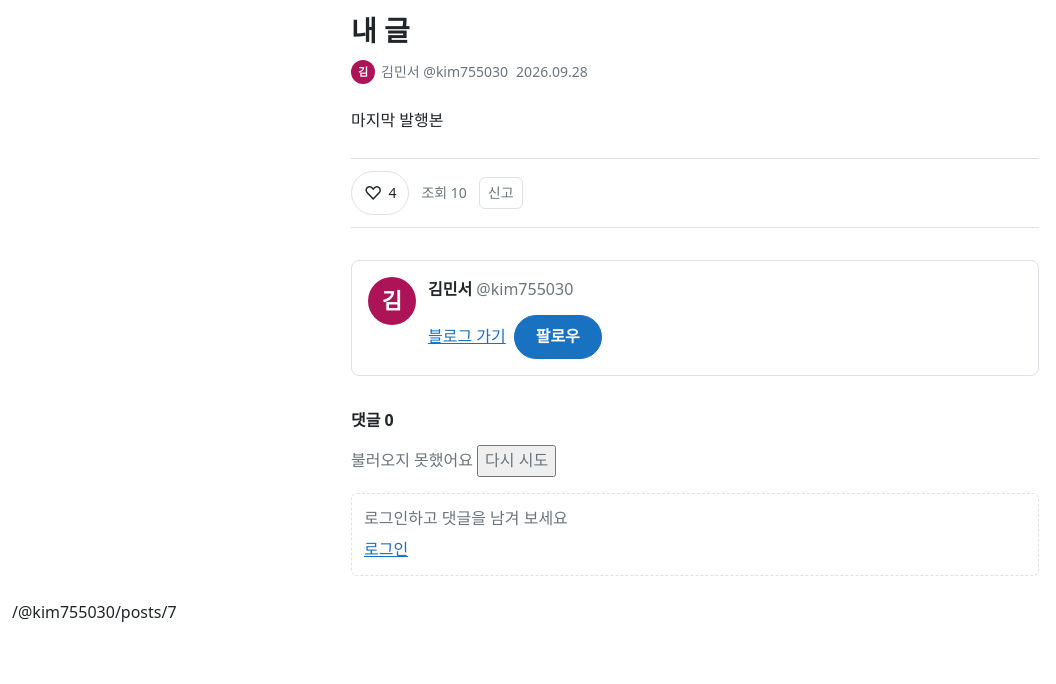
Test case: PostDetailPage — 작성자 › 작성자 카드 [팔로우] (010 T023) › 비회원이 누르면 요청 없이 로그인 안내
Click the button "팔로우" at (558, 337), box [514, 315, 602, 359]
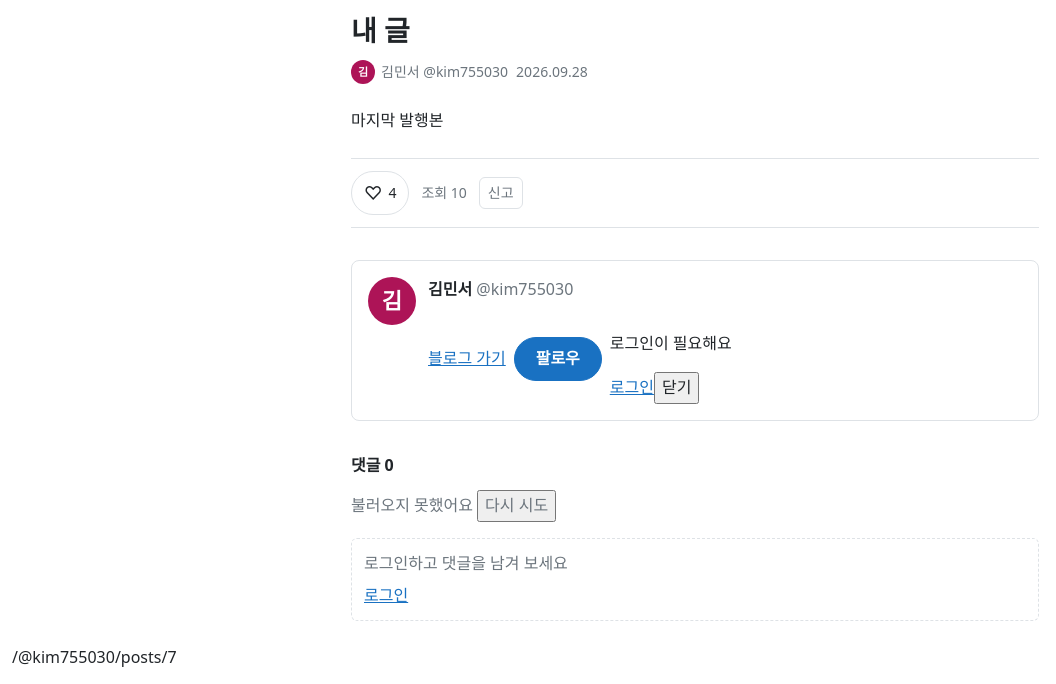
Check: the message "로그인이 필요해요 로그인 닫기" is shown, box [610, 315, 732, 404]
